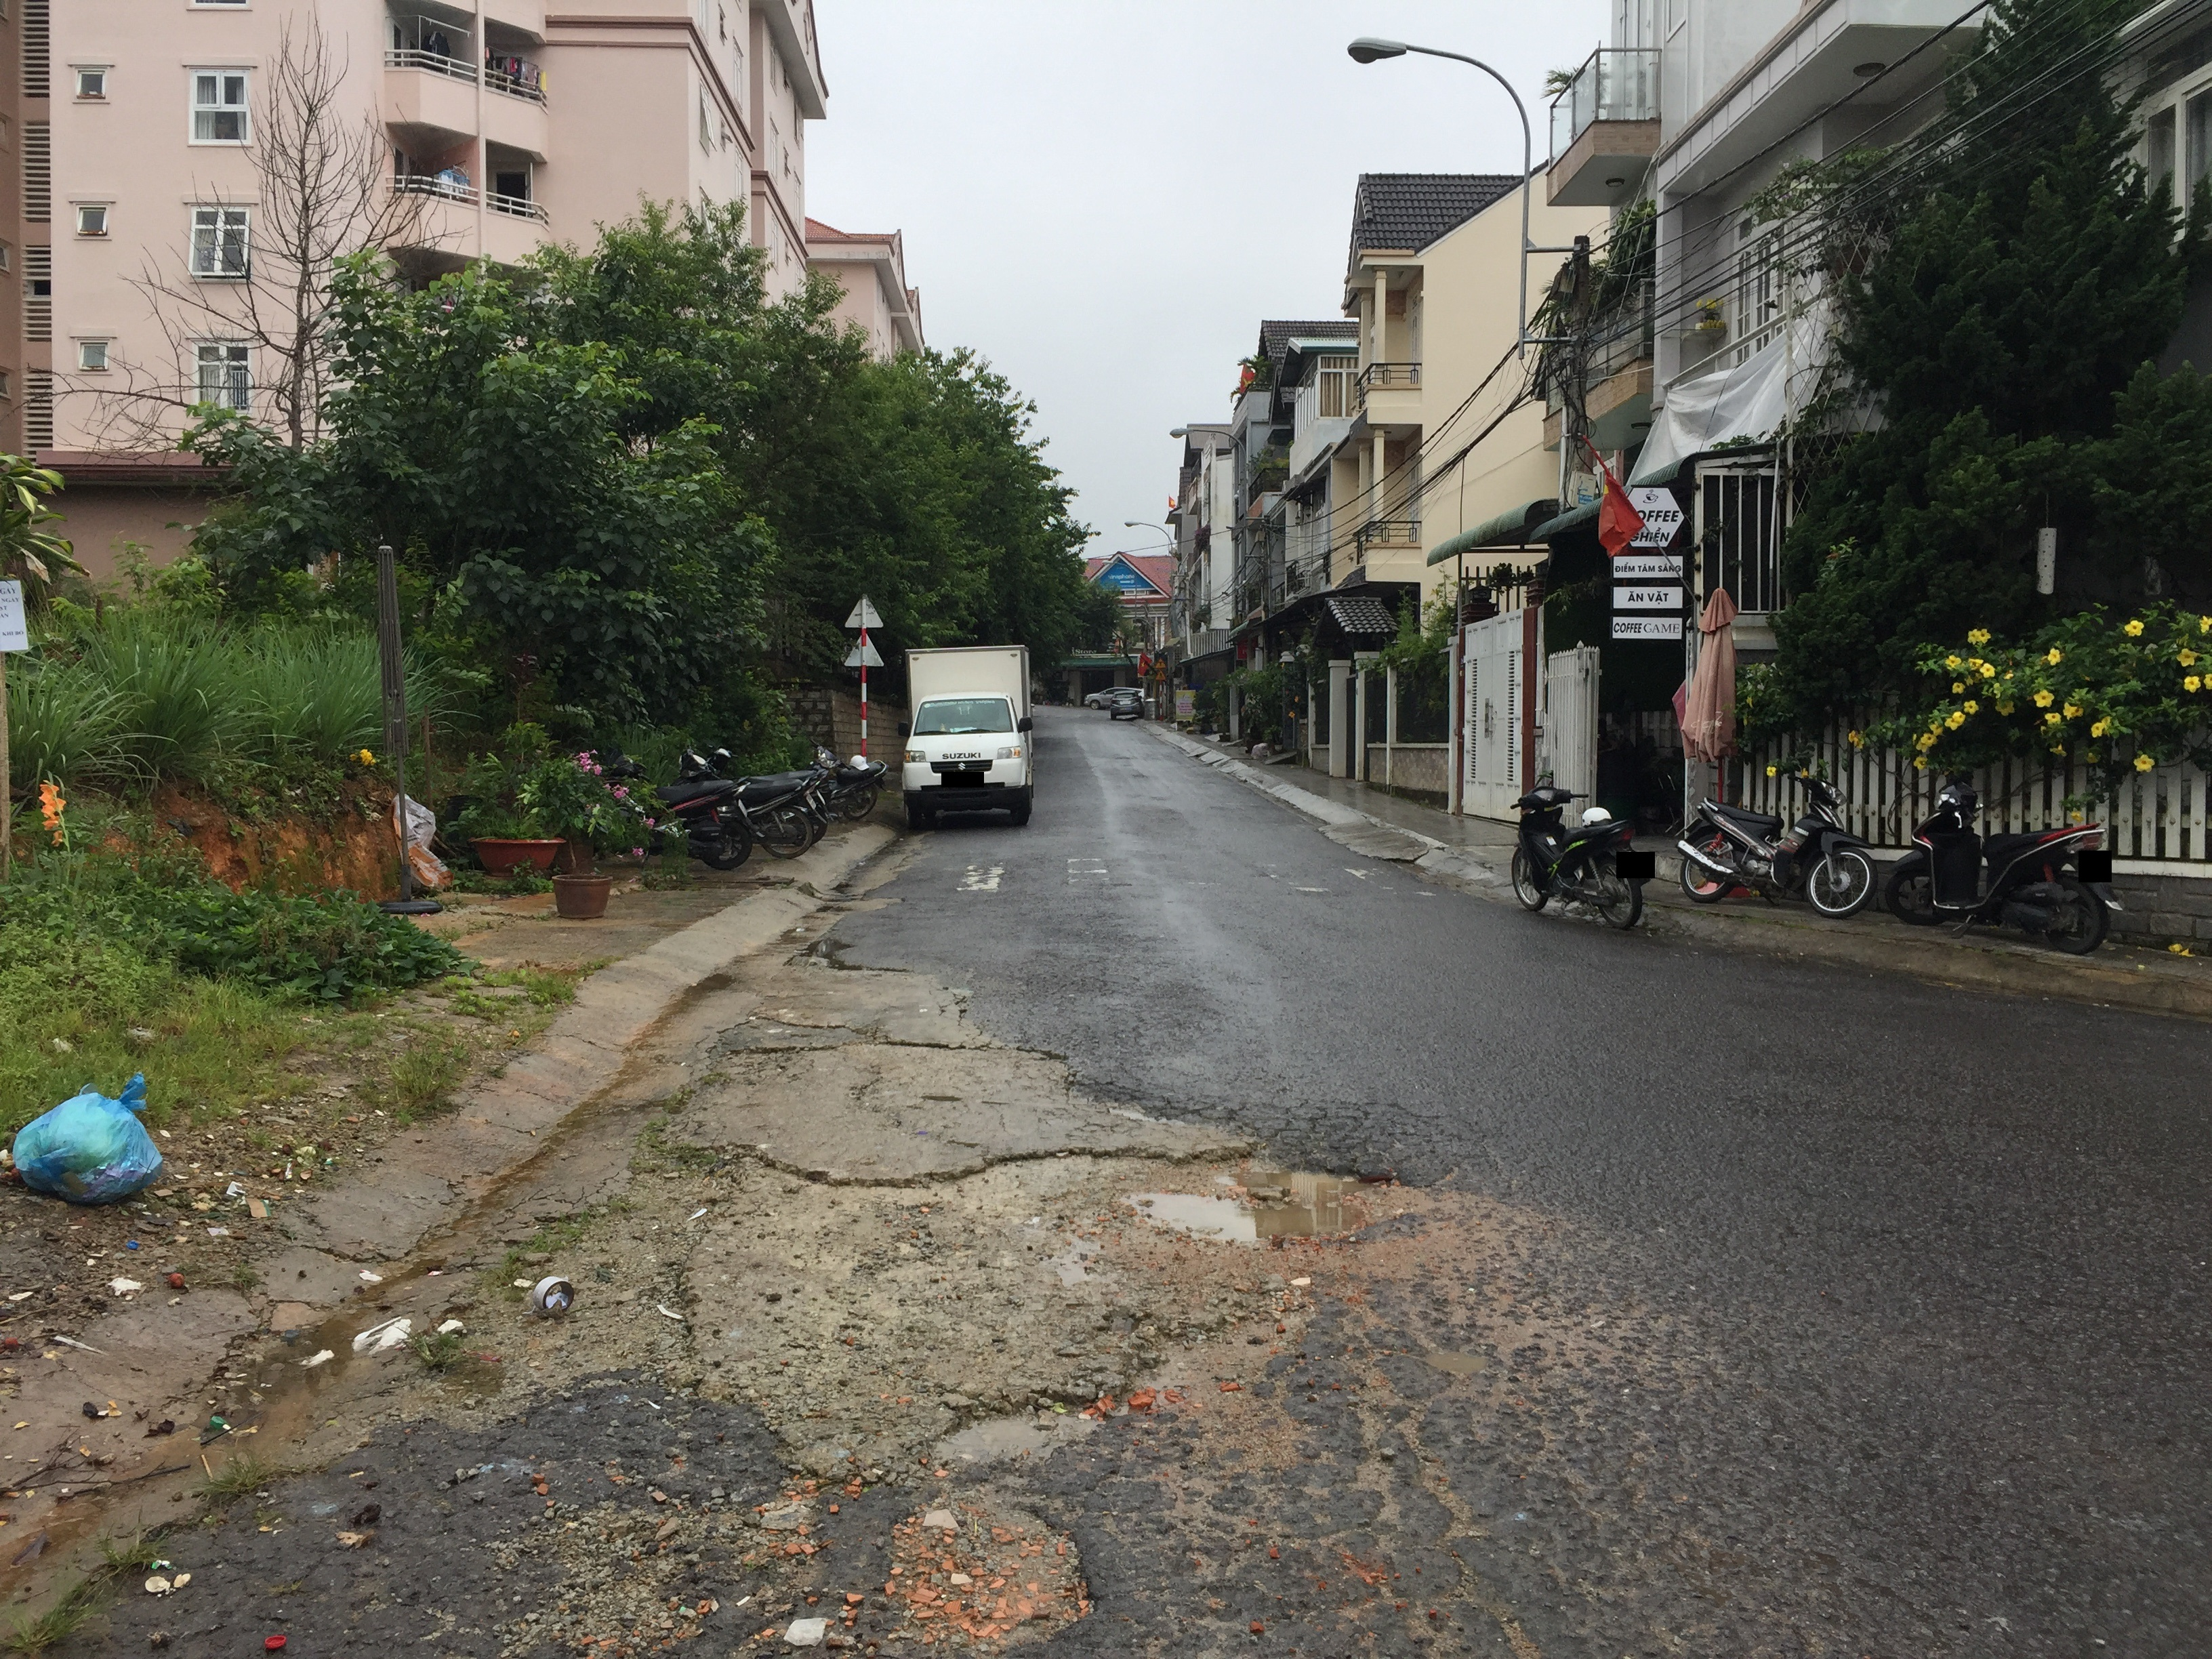hole: (859, 1474, 1116, 1659), (1113, 1138, 1416, 1256), (911, 1384, 1127, 1481), (1061, 1080, 1249, 1127)
